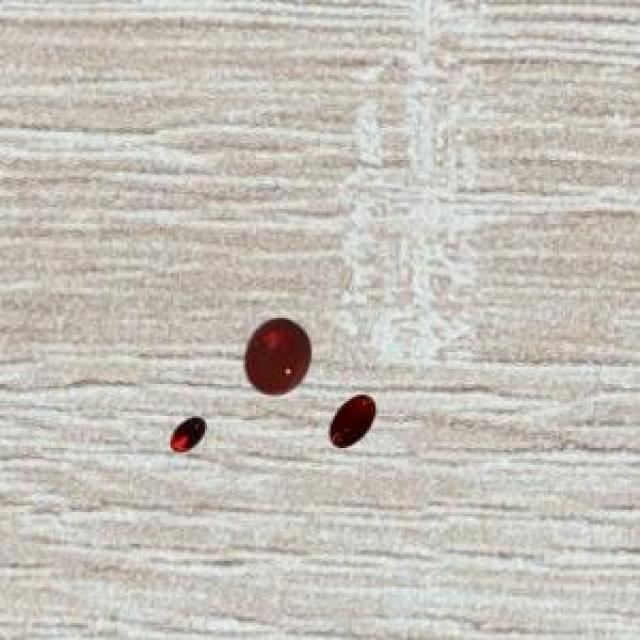Medicol: (240, 309, 316, 400), (322, 388, 382, 459), (163, 409, 210, 462)
